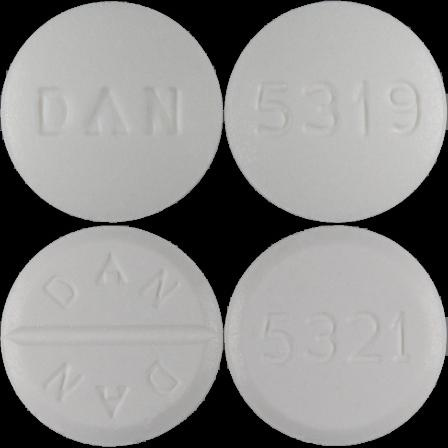0591-5319: (0, 0, 224, 224)
